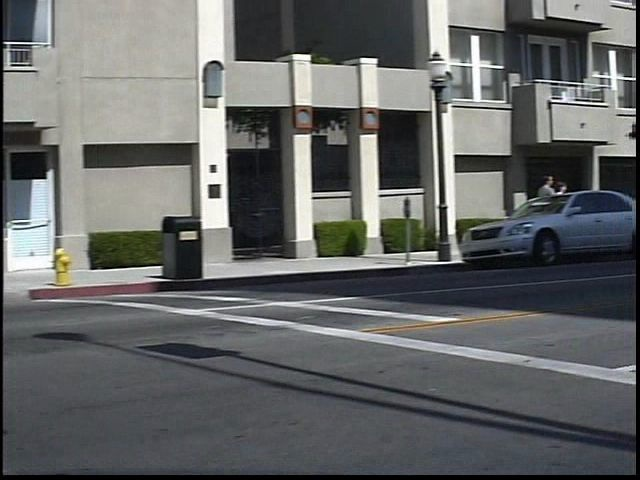person: (545, 170, 569, 246), (564, 178, 584, 239)
